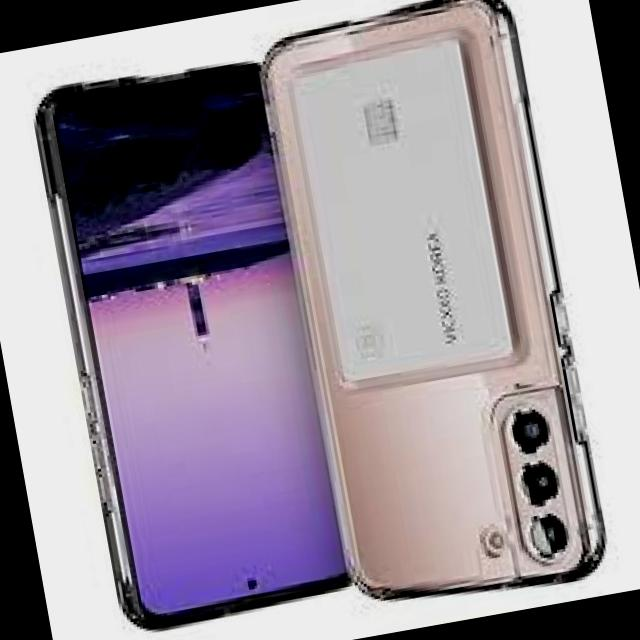lens_back: (492, 398, 564, 465), (515, 502, 581, 565), (508, 458, 568, 512)
phone: (249, 0, 621, 628), (19, 41, 352, 639)
